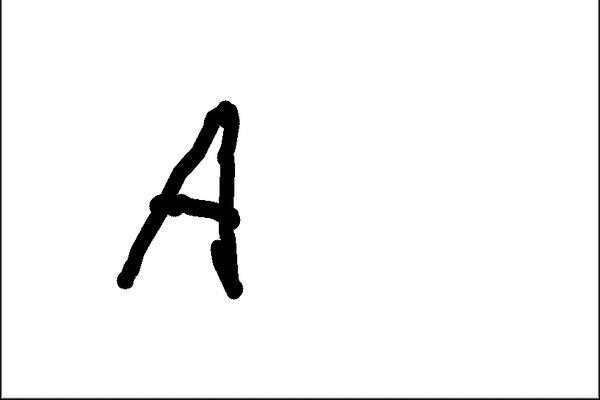A: (104, 88, 253, 314)
